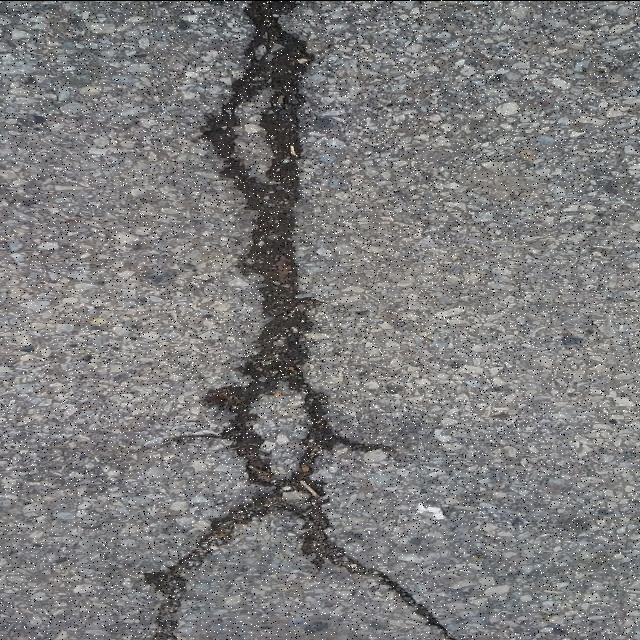Crack: (145, 0, 459, 640)
